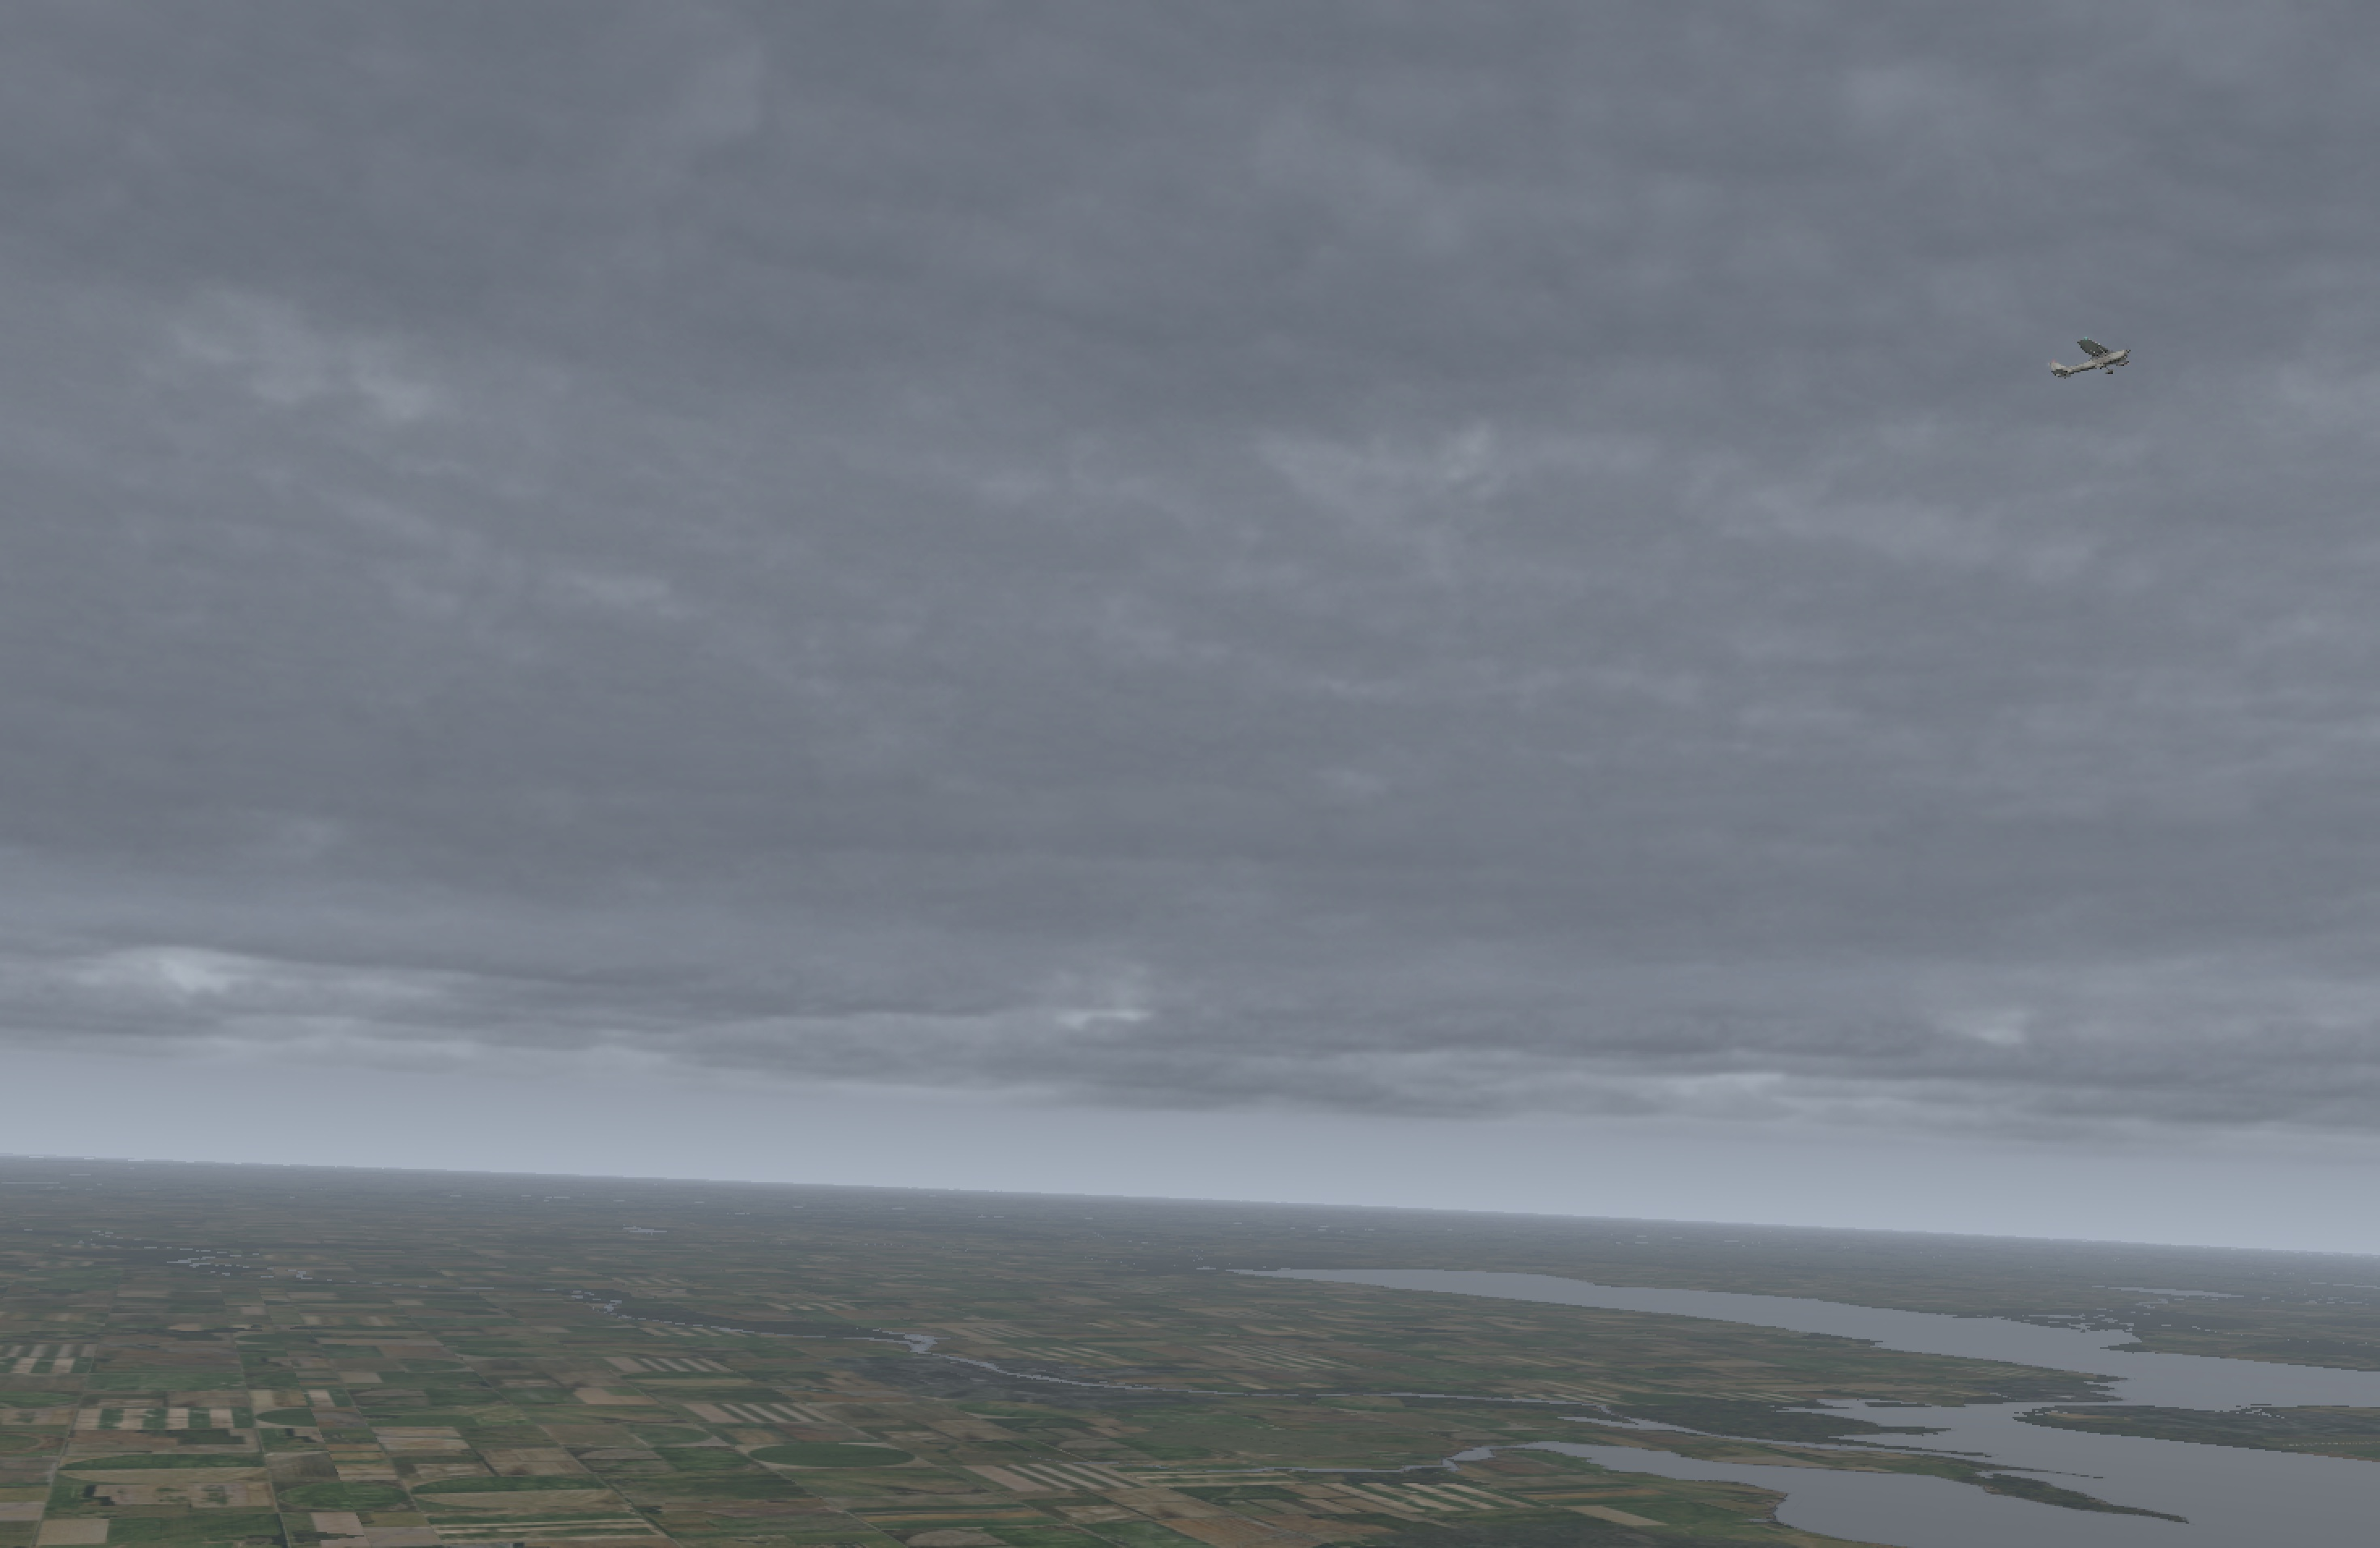aircraft: (2073, 345, 2141, 371)
